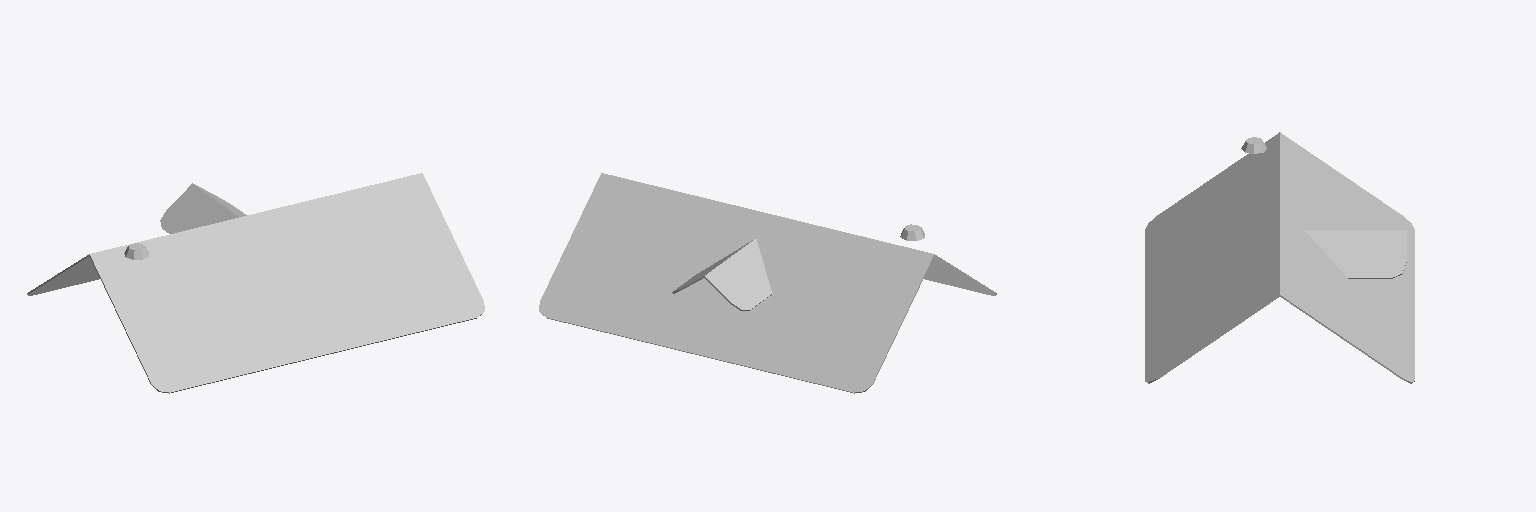
The model's file is building-type-g_roof.obj.
3 renders of one model, left to right at view 1: azimuth 30°, elevation 25°; view 2: azimuth 150°, elevation 25°; view 3: azimuth 270°, elevation 25°, orthographic.
Visible parts, largest first — view 1: building-type-g.001; view 2: building-type-g.001; view 3: building-type-g.001.
Boxes of the visible parts, <box> form: building-type-g.001: <box>27,173,484,393</box>; building-type-g.001: <box>539,173,996,393</box>; building-type-g.001: <box>1145,132,1414,383</box>.
Size of the model in its own units: 1.3 by 0.379 by 0.916.